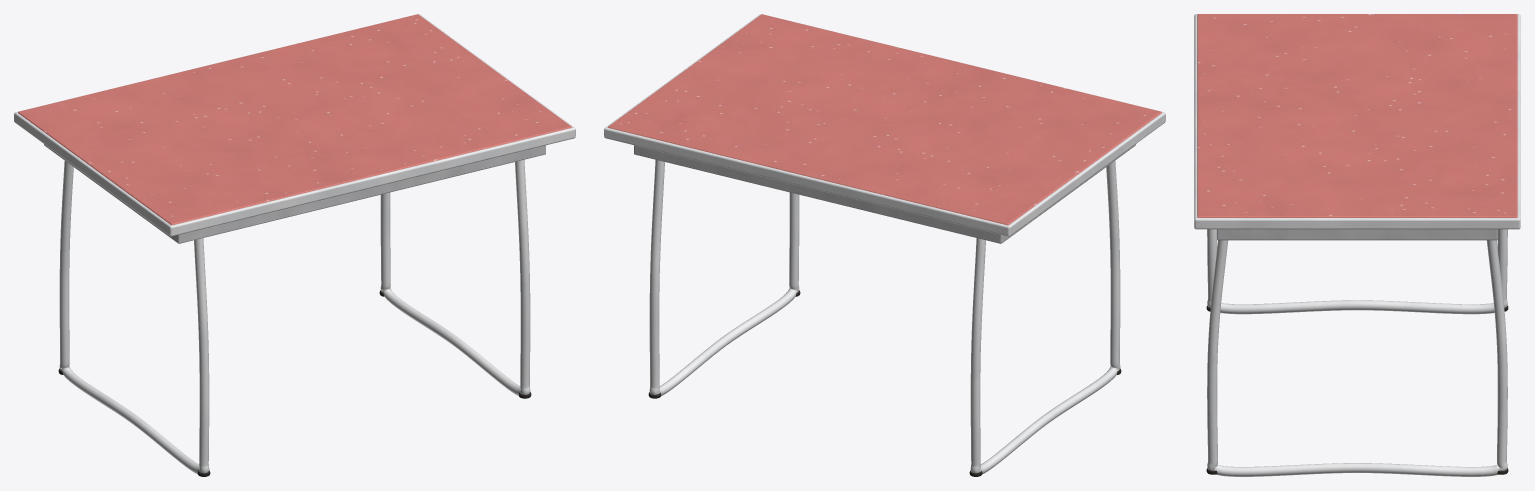
File: np_dinette_table_1k.fbx
3 renders of one model, left to right at view 1: azimuth 30°, elevation 25°; view 2: azimuth 150°, elevation 25°; view 3: azimuth 270°, elevation 25°, orthographic. The views are drawn at different scales.
Visible parts, largest first — view 1: np_dinette_table; view 2: np_dinette_table; view 3: np_dinette_table.
Part boxes in pixels (<box>): np_dinette_table: <box>14,14,575,476</box>; np_dinette_table: <box>604,14,1165,476</box>; np_dinette_table: <box>1194,14,1520,476</box>.
Bounding box in the file's own units: 1.21 × 0.7705 × 0.814.
Materials: 1 (1 with a texture image).
